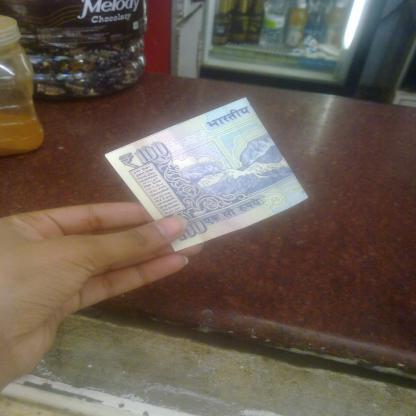Old100Back: (104, 97, 309, 252)
